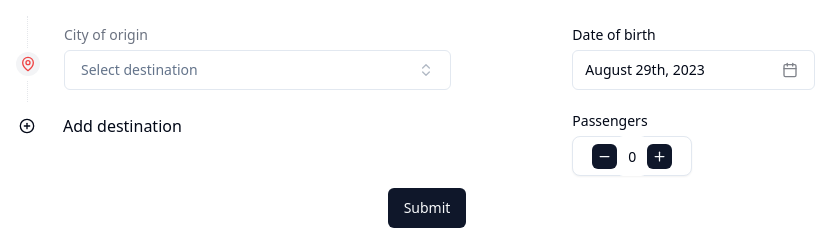
Scenario: should icnrement/decrement value by clicking the buttons and update query params accordingly
Expected: the button with test id "decrement-btn" is shown, [592,144,617,168]
Expected: the field with test id "increment-decrement-input" is shown, [617,136,647,176]
Click the button with test id "increment-btn". click: (660, 156)
box: [647,144,672,168]
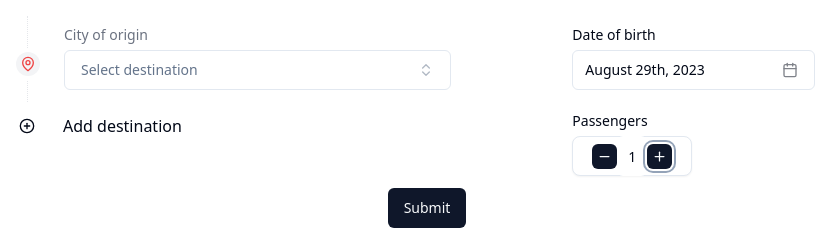
Expected: the field with test id "increment-decrement-input" holds "1", [617,136,647,176]
